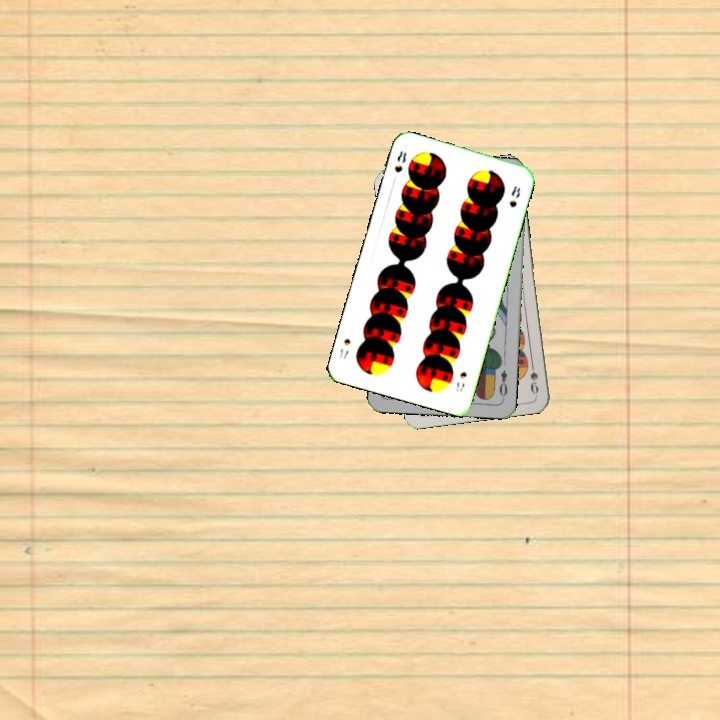EO: (495, 366, 510, 402)
S8: (390, 147, 409, 175), (451, 367, 469, 394)
S9: (526, 356, 541, 396)
